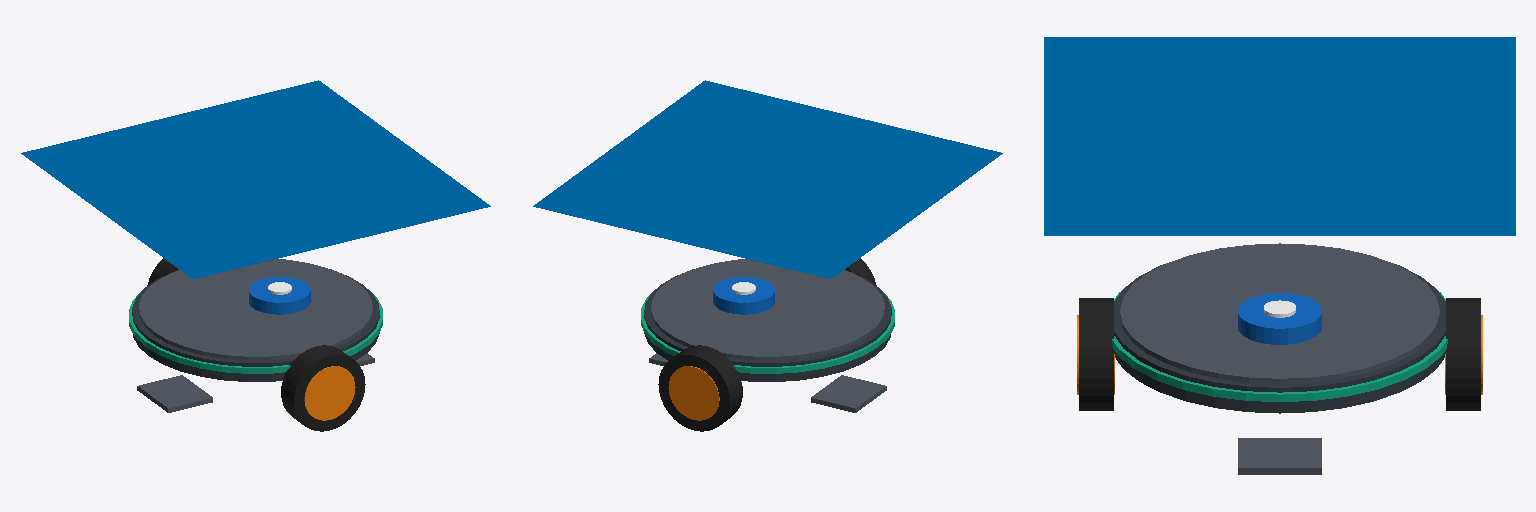
robot.urdf — cv_robot:
<?xml version="1.0"?>
<robot name="cv_robot">
  <link name="base_footprint"/>
  <joint name="base_joint" type="fixed">
    <parent link="base_footprint"/>
    <child link="base_link"/>
    <origin xyz="0 0 0.15" rpy="0 0 0"/>
  </joint>

  <material name="chassis">     <color rgba="0.25 0.28 0.32 1"/></material>
  <material name="teal">        <color rgba="0.11 0.72 0.55 1"/></material>
  <material name="orange_rim">  <color rgba="1.00 0.55 0.10 1"/></material>
  <material name="dark_rubber"> <color rgba="0.18 0.18 0.18 1"/></material>
  <material name="top_cap">     <color rgba="0.35 0.38 0.42 1"/></material>
  <material name="sensor_blue"> <color rgba="0.10 0.45 0.80 1"/></material>
  <material name="white">       <color rgba="1.00 1.00 1.00 1"/></material>

  <!-- Main chassis -->
  <link name="base_link">
    <visual>
      <geometry>
        <cylinder radius="0.36" length="0.06"/>
      </geometry>
      <material name="chassis"/>
    </visual>
    <collision>
      <geometry>
        <cylinder radius="0.36" length="0.06"/>
      </geometry>
    </collision>
    <inertial>
      <mass value="10.8"/>
      <inertia ixx="0.486" ixy="0" ixz="0" iyy="0.486" iyz="0" izz="0.729"/>
    </inertial>
  </link>

  <!-- Teal accent ring -->
  <link name="accent_ring">
    <visual>
      <geometry>
        <cylinder radius="0.37" length="0.018"/>
      </geometry>
      <material name="teal"/>
    </visual>
    <collision>
      <geometry><cylinder radius="0.001" length="0.001"/></geometry>
    </collision>
    <inertial>
      <mass value="0.05"/>
      <inertia ixx="0.00005" ixy="0" ixz="0" iyy="0.00005" iyz="0" izz="0.00009"/>
    </inertial>
  </link>
  <joint name="accent_ring_joint" type="fixed">
    <parent link="base_link"/>
    <child link="accent_ring"/>
    <origin xyz="0 0 0.01" rpy="0 0 0"/>
  </joint>

  <!-- Top plate cap -->
  <link name="top_plate">
    <visual>
      <geometry>
        <cylinder radius="0.34" length="0.012"/>
      </geometry>
      <material name="top_cap"/>
    </visual>
    <collision>
      <geometry><cylinder radius="0.001" length="0.001"/></geometry>
    </collision>
    <inertial>
      <mass value="0.2"/>
      <inertia ixx="0.0003" ixy="0" ixz="0" iyy="0.0003" iyz="0" izz="0.0006"/>
    </inertial>
  </link>
  <joint name="top_plate_joint" type="fixed">
    <parent link="base_link"/>
    <child link="top_plate"/>
    <origin xyz="0 0 0.036" rpy="0 0 0"/>
  </joint>

  <!-- Sensor dome -->
  <link name="sensor_dome">
    <visual>
      <geometry><cylinder radius="0.09" length="0.05"/></geometry>
      <material name="sensor_blue"/>
    </visual>
    <collision>
      <geometry><cylinder radius="0.09" length="0.05"/></geometry>
    </collision>
    <inertial>
      <mass value="0.25"/>
      <inertia ixx="0.0008" ixy="0" ixz="0" iyy="0.0008" iyz="0" izz="0.0010"/>
    </inertial>
  </link>
  <joint name="sensor_dome_joint" type="fixed">
    <parent link="base_link"/>
    <child link="sensor_dome"/>
    <origin xyz="0.08 0 0.055" rpy="0 0 0"/>
  </joint>

  <!-- Dome lens -->
  <link name="dome_lens">
    <visual>
      <geometry><cylinder radius="0.035" length="0.008"/></geometry>
      <material name="white"/>
    </visual>
    <collision>
      <geometry><cylinder radius="0.001" length="0.001"/></geometry>
    </collision>
    <inertial>
      <mass value="0.01"/>
      <inertia ixx="0.00001" ixy="0" ixz="0" iyy="0.00001" iyz="0" izz="0.00001"/>
    </inertial>
  </link>
  <joint name="dome_lens_joint" type="fixed">
    <parent link="sensor_dome"/>
    <child link="dome_lens"/>
    <origin xyz="0 0 0.029" rpy="0 0 0"/>
  </joint>

  <!-- Left wheel -->
  <link name="left_wheel">
    <visual>
      <origin xyz="0 0 0" rpy="1.5708 0 0"/>
      <geometry><cylinder radius="0.12" length="0.075"/></geometry>
      <material name="dark_rubber"/>
    </visual>
    <collision>
      <origin xyz="0 0 0" rpy="1.5708 0 0"/>
      <geometry><cylinder radius="0.12" length="0.075"/></geometry>
    </collision>
    <inertial>
      <mass value="0.72"/>
      <inertia ixx="0.0045" ixy="0" ixz="0" iyy="0.0045" iyz="0" izz="0.0045"/>
    </inertial>
  </link>
  <joint name="left_wheel_joint" type="continuous">
    <parent link="base_link"/>
    <child link="left_wheel"/>
    <origin xyz="0 0.39 -0.06" rpy="0 0 0"/>
    <axis xyz="0 1 0"/>
  </joint>

  <!-- Left rim ring -->
  <link name="left_rim">
    <visual>
      <origin xyz="0 0 0" rpy="1.5708 0 0"/>
      <geometry><cylinder radius="0.085" length="0.080"/></geometry>
      <material name="orange_rim"/>
    </visual>
    <collision>
      <geometry><box size="0.001 0.001 0.001"/></geometry>
    </collision>
    <inertial>
      <mass value="0.05"/>
      <inertia ixx="0.0002" ixy="0" ixz="0" iyy="0.0002" iyz="0" izz="0.0003"/>
    </inertial>
  </link>
  <joint name="left_rim_joint" type="fixed">
    <parent link="left_wheel"/>
    <child link="left_rim"/>
    <origin xyz="0 0 0" rpy="0 0 0"/>
  </joint>

  <!-- Right wheel -->
  <link name="right_wheel">
    <visual>
      <origin xyz="0 0 0" rpy="1.5708 0 0"/>
      <geometry><cylinder radius="0.12" length="0.075"/></geometry>
      <material name="dark_rubber"/>
    </visual>
    <collision>
      <origin xyz="0 0 0" rpy="1.5708 0 0"/>
      <geometry><cylinder radius="0.12" length="0.075"/></geometry>
    </collision>
    <inertial>
      <mass value="0.72"/>
      <inertia ixx="0.0045" ixy="0" ixz="0" iyy="0.0045" iyz="0" izz="0.0045"/>
    </inertial>
  </link>
  <joint name="right_wheel_joint" type="continuous">
    <parent link="base_link"/>
    <child link="right_wheel"/>
    <origin xyz="0 -0.39 -0.06" rpy="0 0 0"/>
    <axis xyz="0 1 0"/>
  </joint>

  <!-- Right rim ring -->
  <link name="right_rim">
    <visual>
      <origin xyz="0 0 0" rpy="1.5708 0 0"/>
      <geometry><cylinder radius="0.085" length="0.080"/></geometry>
      <material name="orange_rim"/>
    </visual>
    <collision>
      <geometry><box size="0.001 0.001 0.001"/></geometry>
    </collision>
    <inertial>
      <mass value="0.05"/>
      <inertia ixx="0.0002" ixy="0" ixz="0" iyy="0.0002" iyz="0" izz="0.0003"/>
    </inertial>
  </link>
  <joint name="right_rim_joint" type="fixed">
    <parent link="right_wheel"/>
    <child link="right_rim"/>
    <origin xyz="0 0 0" rpy="0 0 0"/>
  </joint>

  <!-- Skid plate rear -->
  <link name="skid_plate">
    <visual>
      <geometry><box size="0.15 0.18 0.015"/></geometry>
      <material name="top_cap"/>
    </visual>
    <collision>
      <geometry><box size="0.15 0.18 0.015"/></geometry>
    </collision>
    <inertial>
      <mass value="0.18"/>
      <inertia ixx="0.00003" ixy="0" ixz="0" iyy="0.00003" iyz="0" izz="0.00003"/>
    </inertial>
  </link>
  <joint name="skid_joint" type="fixed">
    <parent link="base_link"/>
    <child link="skid_plate"/>
    <origin xyz="-0.27 0 -0.1725" rpy="0 0 0"/>
  </joint>

  <!-- Skid plate front -->
  <link name="skid_plate_front">
    <visual>
      <geometry><box size="0.15 0.18 0.015"/></geometry>
      <material name="top_cap"/>
    </visual>
    <collision>
      <geometry><box size="0.15 0.18 0.015"/></geometry>
    </collision>
    <inertial>
      <mass value="0.18"/>
      <inertia ixx="0.00003" ixy="0" ixz="0" iyy="0.00003" iyz="0" izz="0.00003"/>
    </inertial>
  </link>
  <joint name="skid_joint_front" type="fixed">
    <parent link="base_link"/>
    <child link="skid_plate_front"/>
    <origin xyz="0.27 0 -0.1725" rpy="0 0 0"/>
  </joint>

  <gazebo reference="skid_plate">
    <mu1>0.1</mu1><mu2>0.1</mu2>
  </gazebo>
  <gazebo reference="skid_plate_front">
    <mu1>0.1</mu1><mu2>0.1</mu2>
  </gazebo>
  <gazebo reference="left_wheel">
    <mu1>1.0</mu1><mu2>1.0</mu2>
  </gazebo>
  <gazebo reference="right_wheel">
    <mu1>1.0</mu1><mu2>1.0</mu2>
  </gazebo>

  <gazebo>
    <plugin filename="gz-sim-pose-publisher-system"
            name="gz::sim::systems::PosePublisher">
      <publish_model_pose>true</publish_model_pose>
      <publish_link_pose>false</publish_link_pose>
      <update_frequency>30</update_frequency>
    </plugin>
  </gazebo>

  <gazebo>
    <plugin filename="gz-sim-diff-drive-system"
            name="gz::sim::systems::DiffDrive">
      <left_joint>left_wheel_joint</left_joint>
      <right_joint>right_wheel_joint</right_joint>
      <wheel_separation>0.78</wheel_separation>
      <wheel_diameter>0.24</wheel_diameter>
      <max_linear_acceleration>1.0</max_linear_acceleration>
      <max_angular_acceleration>2.0</max_angular_acceleration>
      <max_linear_velocity>1.0</max_linear_velocity>
      <max_angular_velocity>2.0</max_angular_velocity>
      <topic>cmd_vel</topic>
      <odom_topic>odom</odom_topic>
      <tf_topic>tf</tf_topic>
      <frame_id>odom</frame_id>
      <child_frame_id>base_link</child_frame_id>
      <odom_publisher_frequency>30</odom_publisher_frequency>
    </plugin>
  </gazebo>

  <!-- aruco marker -->
  <!-- Thin plate for the ArUco marker -->
<link name="aruco_marker_link">
  <visual>
    <geometry>
      <mesh filename="package://cv_robot/materials/meshes/aruco_marker.obj" scale="1 1 1"/>
    </geometry>
  </visual>
  <collision>
    <geometry>
      <box size="0.05 0.05 0.001"/>
    </geometry>
  </collision>
  <inertial>
    <mass value="0.001"/>
    <inertia ixx="2.1e-7" ixy="0" ixz="0" iyy="2.1e-7" iyz="0" izz="4.1e-7"/>
  </inertial>
</link>

<!-- Attach the marker to your robot frame -->
<joint name="aruco_marker_joint" type="fixed">
  <parent link="base_link"/>
  <child link="aruco_marker_link"/>
  <origin xyz="0.0 0.0 0.45" rpy="0 0 0"/>
</joint>

</robot>

--- Render facts (derived) ---
Views: 3 orthographic renders of the robot side by side, from view 1: azimuth 30°, elevation 25°; view 2: azimuth 150°, elevation 25°; view 3: azimuth 270°, elevation 25°.
Robot: cv_robot — 13 links, 12 joints (2 continuous, 10 fixed); root link base_footprint; default pose: all joints at 0.
Links seen in each view (by area): view 1: aruco_marker_link, top_plate, right_wheel, base_link, right_rim, sensor_dome, skid_plate, accent_ring; view 2: aruco_marker_link, top_plate, left_wheel, base_link, left_rim, sensor_dome, skid_plate, accent_ring; view 3: aruco_marker_link, top_plate, base_link, left_wheel, right_wheel, accent_ring, sensor_dome, skid_plate_front.
Link boxes in pixels (x1,y1,x2,y2): aruco_marker_link: (21, 80, 490, 278); top_plate: (139, 259, 372, 360); right_wheel: (281, 345, 365, 431); base_link: (132, 269, 379, 381); right_rim: (304, 366, 355, 420); sensor_dome: (249, 277, 310, 314); skid_plate: (137, 375, 212, 412); accent_ring: (129, 289, 382, 373); aruco_marker_link: (533, 80, 1002, 278); top_plate: (651, 259, 884, 360); left_wheel: (658, 345, 742, 431); base_link: (644, 269, 891, 381); left_rim: (668, 366, 719, 420); sensor_dome: (713, 277, 774, 314); skid_plate: (811, 375, 886, 412); accent_ring: (641, 289, 894, 373); aruco_marker_link: (1044, 37, 1515, 235); top_plate: (1120, 243, 1439, 383); base_link: (1114, 264, 1445, 413); left_wheel: (1446, 298, 1480, 410); right_wheel: (1079, 298, 1113, 410); accent_ring: (1112, 292, 1447, 401); sensor_dome: (1238, 293, 1321, 344); skid_plate_front: (1238, 438, 1321, 474).
Bounding box of the posed robot: 1 × 1 × 0.63 m (x, y, z).
Meshes: 1 distinct files referenced, 1 mesh visuals loaded (1 OBJ).
